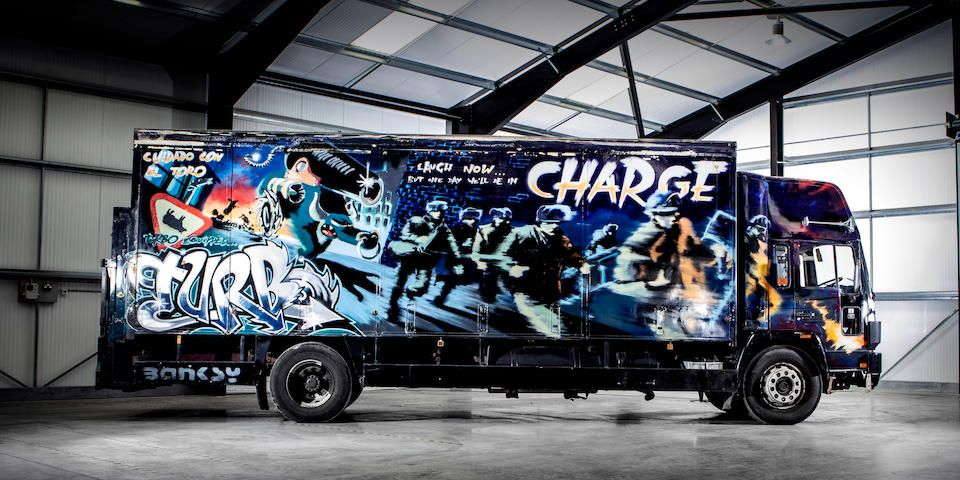Truck: (128, 126, 888, 456)
